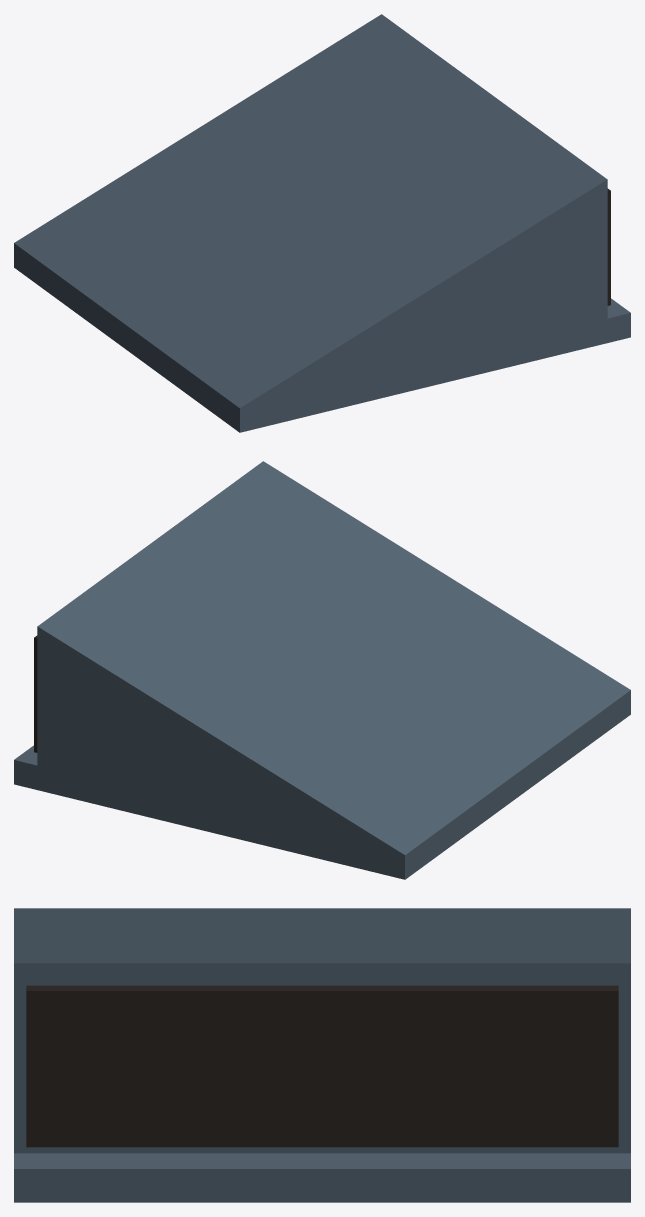
The model's file is roof-sawtooth.glb.
3 views of the same model, one above another, from view 1: azimuth 30°, elevation 25°; view 2: azimuth 150°, elevation 25°; view 3: azimuth 270°, elevation 25° (orthographic). The views are drawn at different scales.
Visible parts, largest first — view 1: roof-sawtooth; view 2: roof-sawtooth; view 3: roof-sawtooth.
Part boxes in pixels (left/top/right/bottom): roof-sawtooth: left=14, top=14, right=630, bottom=432; roof-sawtooth: left=14, top=461, right=630, bottom=879; roof-sawtooth: left=14, top=908, right=630, bottom=1202.
Size of the model in its own units: 1 by 0.4 by 1.
